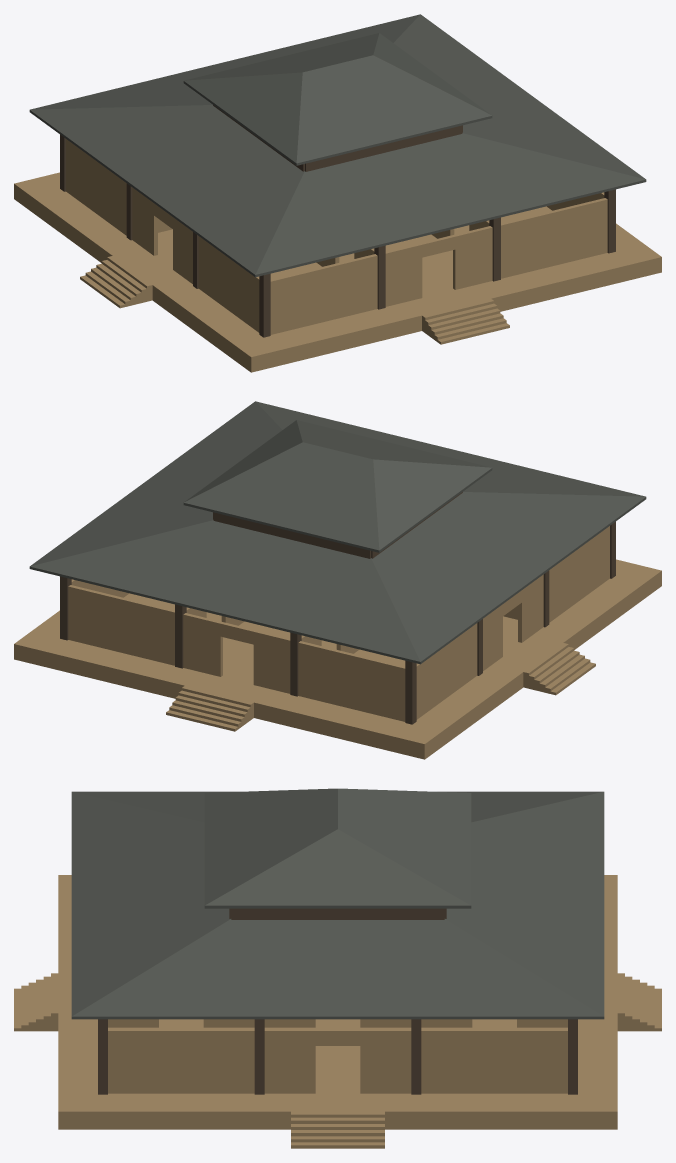
The model's file is mingtang-B-LOD2.glb.
3 renders of one model, top to bottom at view 1: azimuth 30°, elevation 25°; view 2: azimuth 150°, elevation 25°; view 3: azimuth 270°, elevation 25°, orthographic. The views are drawn at different scales.
Visible parts, largest first — view 1: mingtang-B-static_tile, mingtang-B-static_earth, mingtang-B-static_timber; view 2: mingtang-B-static_tile, mingtang-B-static_earth, mingtang-B-static_timber; view 3: mingtang-B-static_tile, mingtang-B-static_earth, mingtang-B-static_timber.
Part boxes in pixels (box(x1,y1,x2,y2)): mingtang-B-static_tile: box(29, 14, 646, 277); mingtang-B-static_earth: box(14, 139, 661, 372); mingtang-B-static_timber: box(60, 105, 615, 337); mingtang-B-static_tile: box(29, 401, 646, 664); mingtang-B-static_earth: box(14, 526, 661, 759); mingtang-B-static_timber: box(60, 492, 615, 724); mingtang-B-static_tile: box(71, 788, 604, 1019); mingtang-B-static_earth: box(14, 875, 661, 1148); mingtang-B-static_timber: box(98, 908, 577, 1094).
Bounding box in the file's own units: 28.96 × 10 × 28.96.
